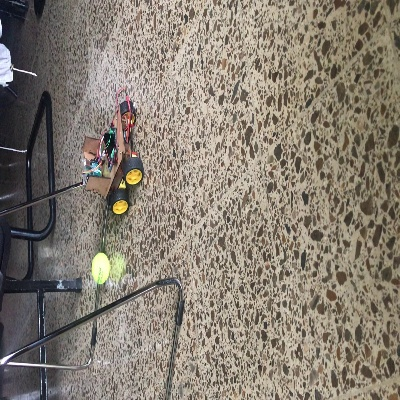Ball: (90, 253, 110, 285)
Robot: (83, 101, 143, 214)
